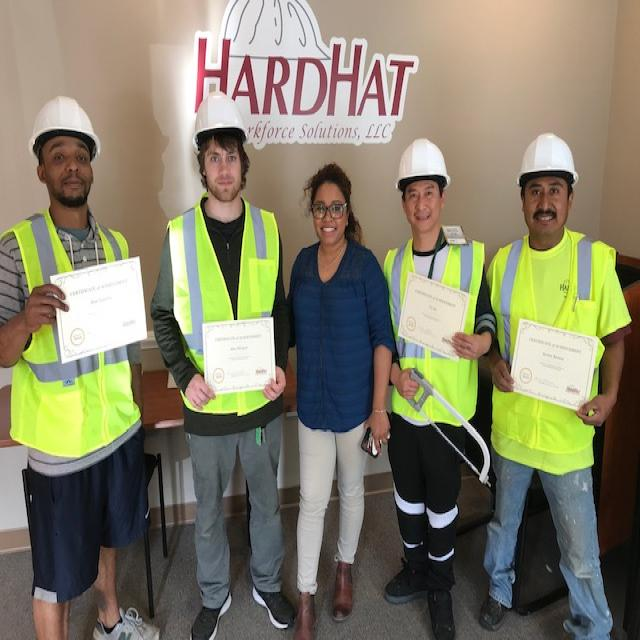Reflective-Jacket: (3, 215, 146, 454), (487, 233, 620, 470), (165, 200, 283, 412), (383, 234, 487, 426)
Safety-Helmet: (25, 89, 104, 159), (514, 125, 580, 188), (393, 133, 452, 191), (191, 86, 249, 142)
